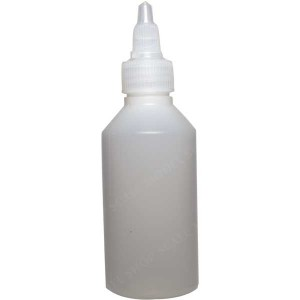emptybottle: (100, 2, 200, 300)
